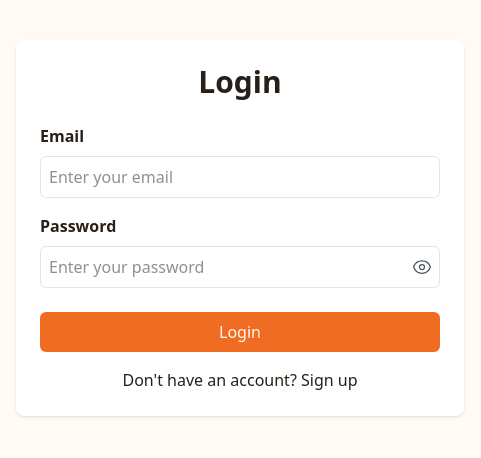
Scenario: Login Page › shows validation errors when submitting empty form
The width and height of the screenshot is (481, 458).
Click the button "Login": (240, 332) [40, 312, 440, 352]
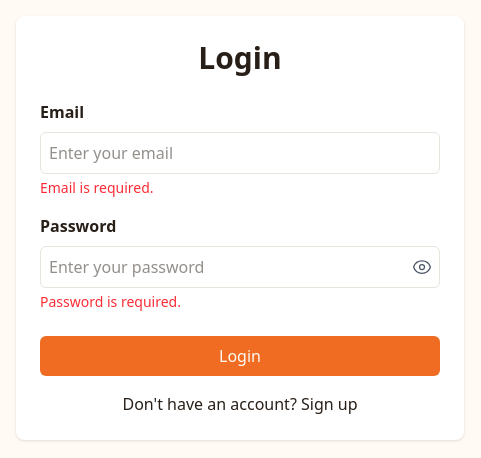
Result: the text "Email is required." is shown at [40, 178, 154, 197]
Result: the text "Password is required." is shown at [40, 292, 181, 311]
